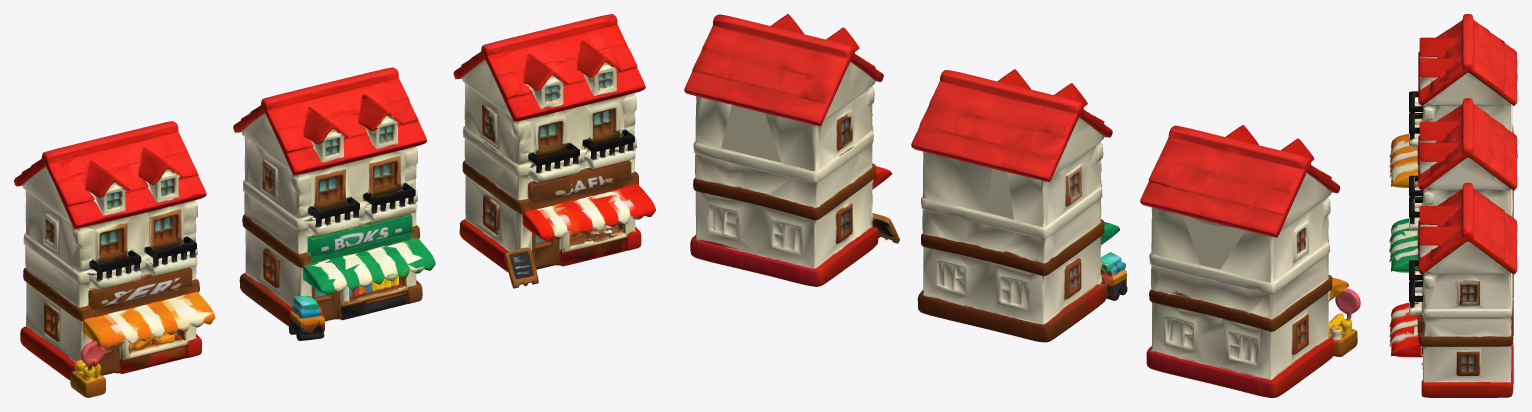
The model's file is row_petit.glb.
3 views of the same model, side by side, from view 1: azimuth 30°, elevation 25°; view 2: azimuth 150°, elevation 25°; view 3: azimuth 270°, elevation 25° (orthographic). The views are drawn at different scales.
Parts seen in each view (by area): view 1: mesh_node; view 2: mesh_node; view 3: mesh_node.
Boxes of the visible parts, x1=… form: mesh_node: x1=14, y1=14, x2=655, y2=397; mesh_node: x1=684, y1=14, x2=1360, y2=397; mesh_node: x1=1389, y1=14, x2=1517, y2=397.
Size of the model in its own units: 1.9 by 0.6717 by 0.4667.
Materials: 1 (1 with a texture image).
